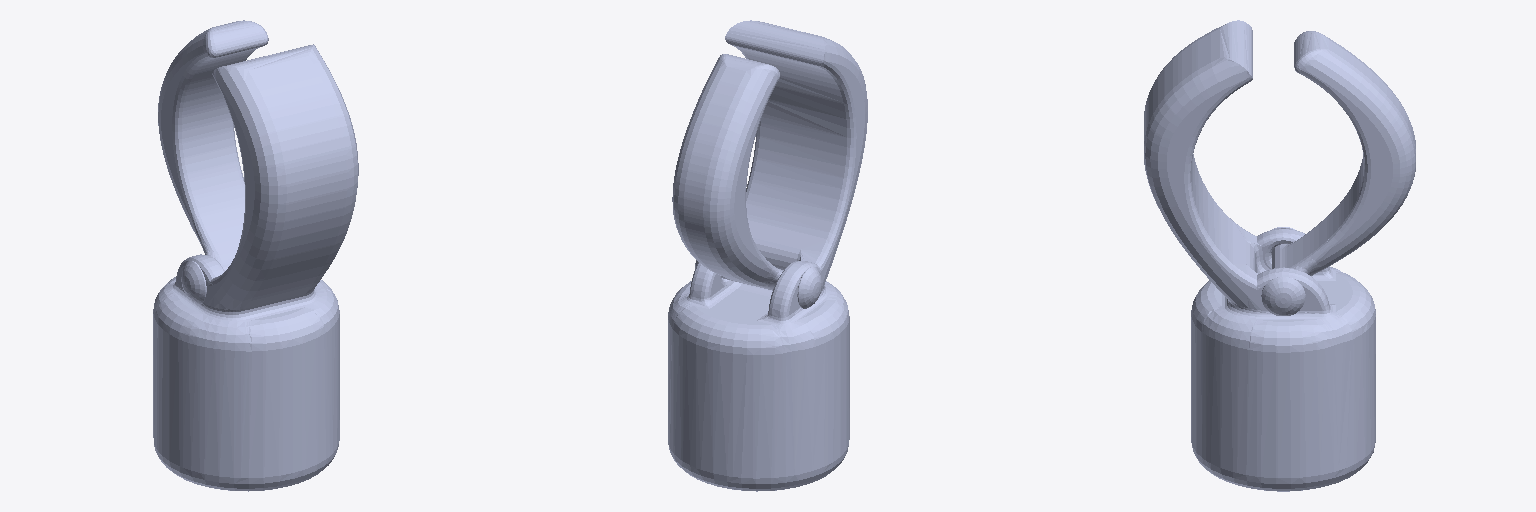
URDF robot description (Gripper):
<?xml version="1.0" encoding="utf-8"?>
<!-- This URDF was automatically created by SolidWorks to URDF Exporter! Originally created by [author] ([email redacted]) 
     Commit Version: 1.6.0-1-g15f4949  Build Version: 1.6.7594.29634
     For more information, please see http://wiki.ros.org/sw_urdf_exporter -->
<robot
  name="Gripper">
  <link
    name="gripper">
    <inertial>
      <origin
        xyz="-4.6351E-07 -0.0082035 0.063279"
        rpy="0 0 0" />
      <mass
        value="0.01" />
      <inertia
        ixx="0.0015578"
        ixy="-2.6082E-09"
        ixz="1.0335E-08"
        iyy="0.0014389"
        iyz="0.00035186"
        izz="0.00047507" />
    </inertial>
    <visual>
      <origin
        xyz="0 0 0"
        rpy="0 0 0" />
      <geometry>
        <mesh
          filename="package://rover/meshes/gripper.STL" />
      </geometry>
      <material
        name="">
        <color
          rgba="0.79216 0.81961 0.93333 1" />
      </material>
    </visual>
    <collision>
      <origin
        xyz="0 0 0"
        rpy="0 0 0" />
      <geometry>
        <mesh
          filename="package://rover/meshes/gripper.STL" />
      </geometry>
    </collision>
  </link>
  <link
    name="claw">
    <inertial>
      <origin
        xyz="0.032597 -0.052263 -3.3918E-07"
        rpy="0 0 0" />
      <mass
        value="0.01" />
      <inertia
        ixx="7.7745E-05"
        ixy="1.0896E-05"
        ixz="2.4088E-10"
        iyy="2.2136E-05"
        iyz="-2.2087E-10"
        izz="8.7668E-05" />
    </inertial>
    <visual>
      <origin
        xyz="0 0 0"
        rpy="0 0 0" />
      <geometry>
        <mesh
          filename="package://rover/meshes/claw.STL" />
      </geometry>
      <material
        name="">
        <color
          rgba="0.79216 0.81961 0.93333 1" />
      </material>
    </visual>
    <collision>
      <origin
        xyz="0 0 0"
        rpy="0 0 0" />
      <geometry>
        <mesh
          filename="package://rover/meshes/claw.STL" />
      </geometry>
    </collision>
  </link>
  <joint
    name="claw_joint"
    type="continuous">
    <origin
      xyz="0 -0.0018853 0.088768"
      rpy="-1.5708 0 1.5708" />
    <parent
      link="gripper" />
    <child
      link="claw" />
    <axis
      xyz="0 0 1" />
<!--     <limit effort="30" velocity="0.3" lower="0.1" upper="0.7" /> -->
  </joint>
  <transmission name="gripper_trans">
     <type>transmission_interface/SimpleTransmission</type>
     <joint name="claw_joint">
       <hardwareInterface>hardware_interface/EffortJointInterface</hardwareInterface>
     </joint>
     <actuator name="gripper_motor">
       <mechanicalReduction>1</mechanicalReduction>
       <hardwareInterface>hardware_interface/EffortJointInterface</hardwareInterface>
     </actuator>
  </transmission>
</robot>

--- Render facts (derived) ---
The picture shows the robot from 3 angles, left to right: view 1: azimuth 30°, elevation 25°; view 2: azimuth 150°, elevation 25°; view 3: azimuth 270°, elevation 25°; orthographic projection.
Robot: Gripper — 2 links, 1 joints (1 continuous); root link gripper; default pose: all joints at 0.
Links seen in each view (by area): view 1: gripper, claw; view 2: gripper, claw; view 3: gripper, claw.
Boxes of the visible links, left/top/right/bottom form: gripper: left=153, top=44, right=358, bottom=491; claw: left=158, top=20, right=268, bottom=303; gripper: left=668, top=20, right=867, bottom=491; claw: left=672, top=54, right=821, bottom=308; gripper: left=1144, top=20, right=1375, bottom=491; claw: left=1261, top=31, right=1415, bottom=315.
Size in the robot's own frame: 0.0799 by 0.1179 by 0.2001 metres.
Meshes: 2 distinct files referenced, 2 mesh visuals loaded (2 binary STL).